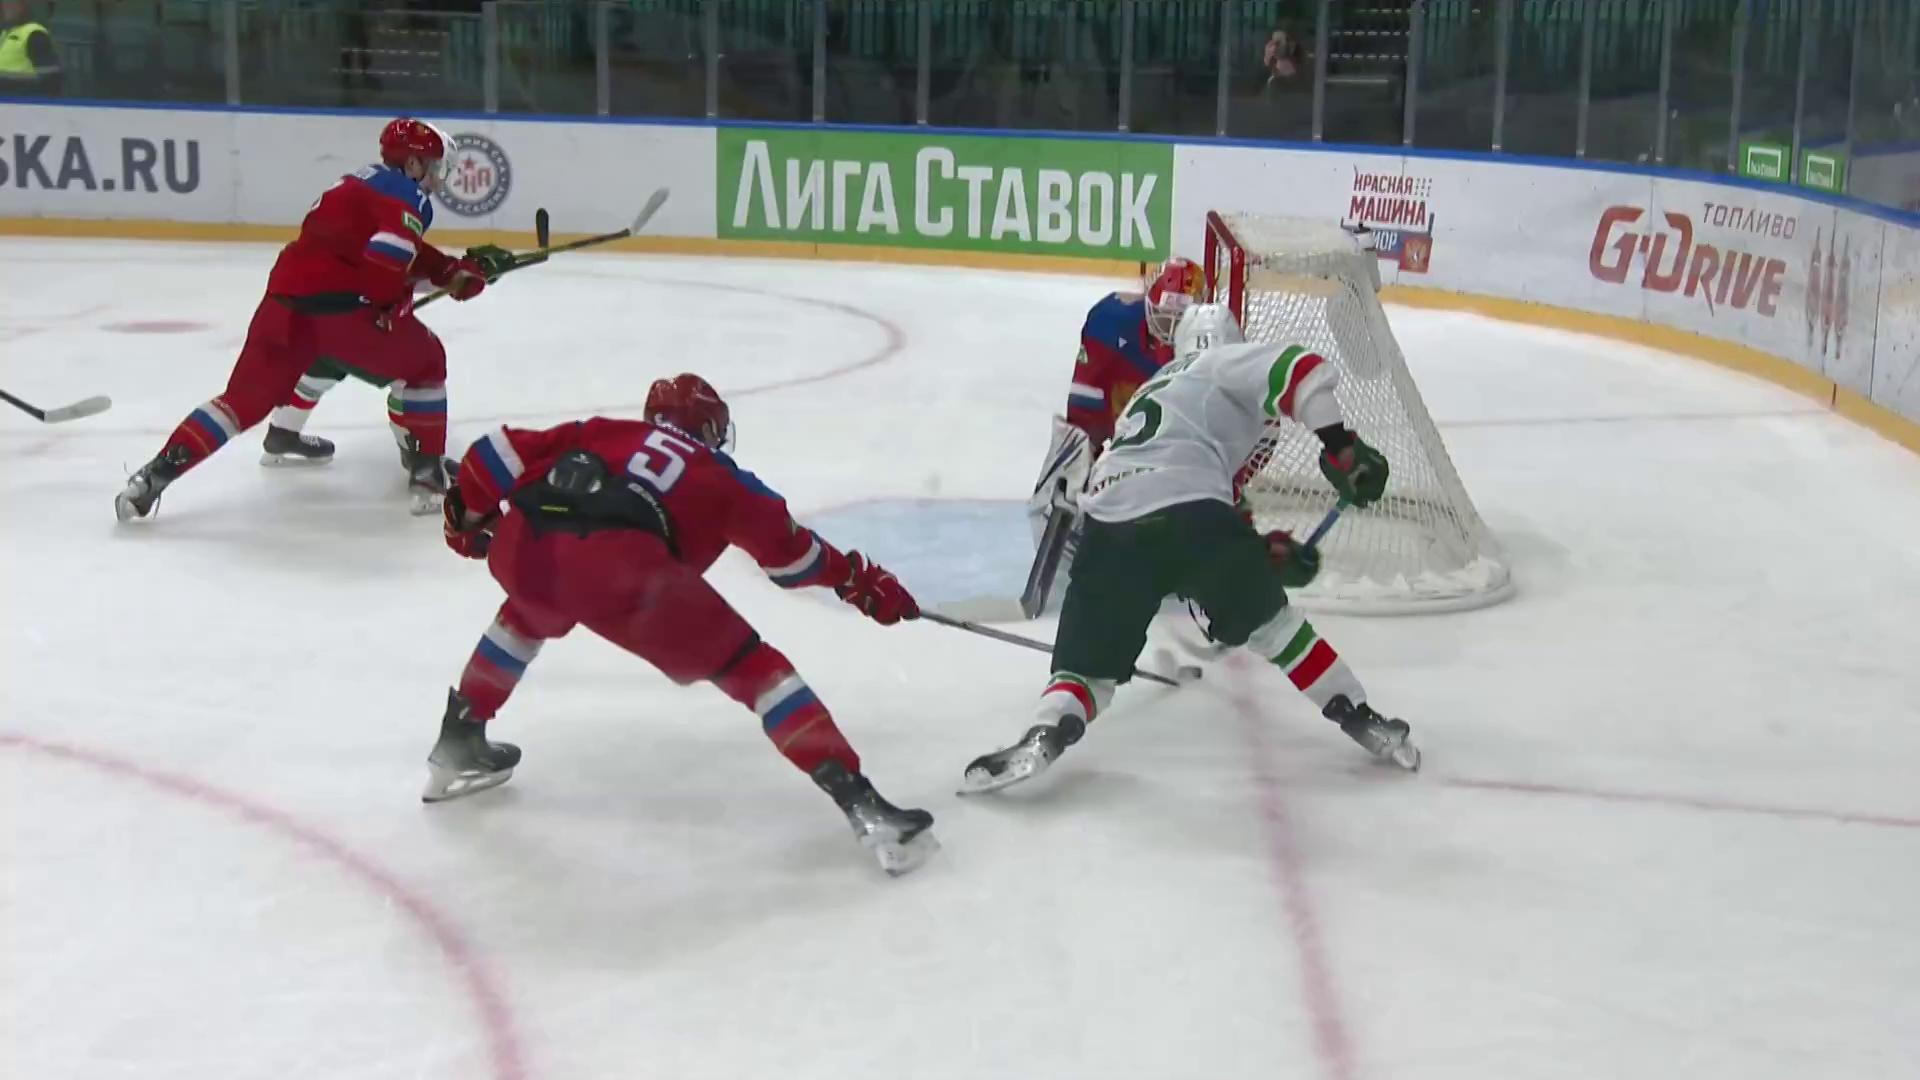ball: (1179, 666, 1204, 678)
